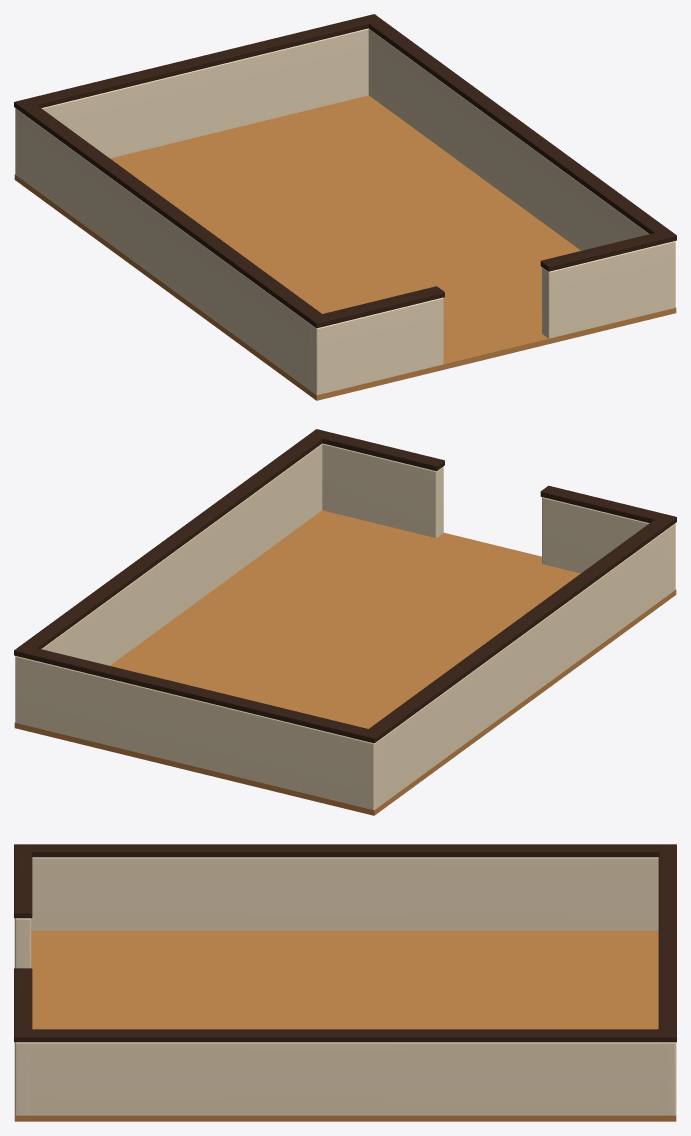
Rendered from room_cut_55x8.glb.
The picture shows the model from 3 angles, top to bottom: view 1: azimuth 30°, elevation 25°; view 2: azimuth 150°, elevation 25°; view 3: azimuth 270°, elevation 25°; orthographic projection. The views are drawn at different scales.
Parts seen in each view (by area): view 1: Floor, Wall3, Wall2, Wall4, Wall0, Wall1, Cap3, Cap4, Cap2, Cap1, Cap0; view 2: Floor, Wall2, Wall3, Wall4, Wall1, Cap3, Cap4, Wall0, Cap2, Cap1, Cap0; view 3: Floor, Wall4, Wall3, Cap4, Cap3, Cap2, Cap0, Cap1, Wall1, Wall2, Wall0.
Boxes of the visible parts, left/top/right/bottom form: Floor: left=14, top=95, right=676, bottom=400; Wall3: left=15, top=109, right=328, bottom=394; Wall2: left=15, top=28, right=368, bottom=178; Wall4: left=368, top=29, right=675, bottom=310; Wall0: left=310, top=297, right=443, bottom=394; Wall1: left=542, top=241, right=675, bottom=338; Cap3: left=14, top=99, right=329, bottom=327; Cap4: left=362, top=14, right=676, bottom=243; Cap2: left=14, top=14, right=381, bottom=112; Cap1: left=540, top=229, right=676, bottom=271; Cap0: left=308, top=286, right=444, bottom=328; Floor: left=14, top=510, right=676, bottom=815; Wall2: left=15, top=656, right=380, bottom=809; Wall3: left=362, top=525, right=675, bottom=809; Wall4: left=16, top=444, right=322, bottom=714; Wall1: left=322, top=443, right=443, bottom=537; Cap3: left=361, top=514, right=676, bottom=742; Cap4: left=14, top=429, right=329, bottom=658; Wall0: left=542, top=497, right=675, bottom=593; Cap2: left=14, top=644, right=382, bottom=743; Cap1: left=309, top=429, right=444, bottom=471; Cap0: left=540, top=485, right=676, bottom=527; Floor: left=14, top=930, right=676, bottom=1121; Wall4: left=15, top=1042, right=675, bottom=1115; Wall3: left=31, top=857, right=658, bottom=930; Cap4: left=14, top=1029, right=676, bottom=1042; Cap3: left=14, top=844, right=675, bottom=857; Cap2: left=658, top=844, right=676, bottom=1042; Cap0: left=14, top=844, right=32, bottom=918; Cap1: left=14, top=968, right=32, bottom=1042; Wall1: left=14, top=1042, right=29, bottom=1115; Wall2: left=661, top=1042, right=676, bottom=1115; Wall0: left=14, top=918, right=31, bottom=968.
Size of the model in its own units: 5.52 by 1.14 by 8.02.
